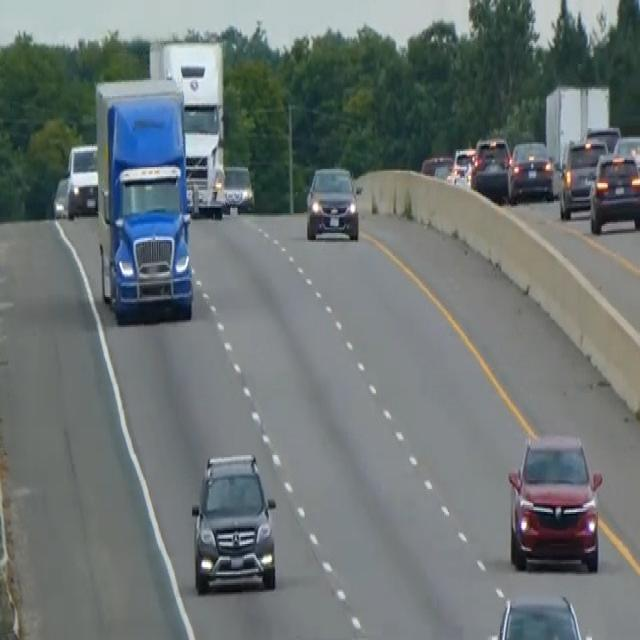car: (506, 428, 603, 572), (487, 592, 594, 638), (305, 164, 361, 242), (588, 151, 639, 235), (558, 135, 607, 219), (508, 137, 555, 201), (470, 135, 512, 203), (65, 140, 98, 217), (223, 162, 254, 212), (449, 144, 475, 187), (584, 123, 621, 153), (420, 151, 453, 180), (51, 176, 70, 219)
jeep: (190, 450, 278, 594)
lorry: (93, 73, 195, 323)
